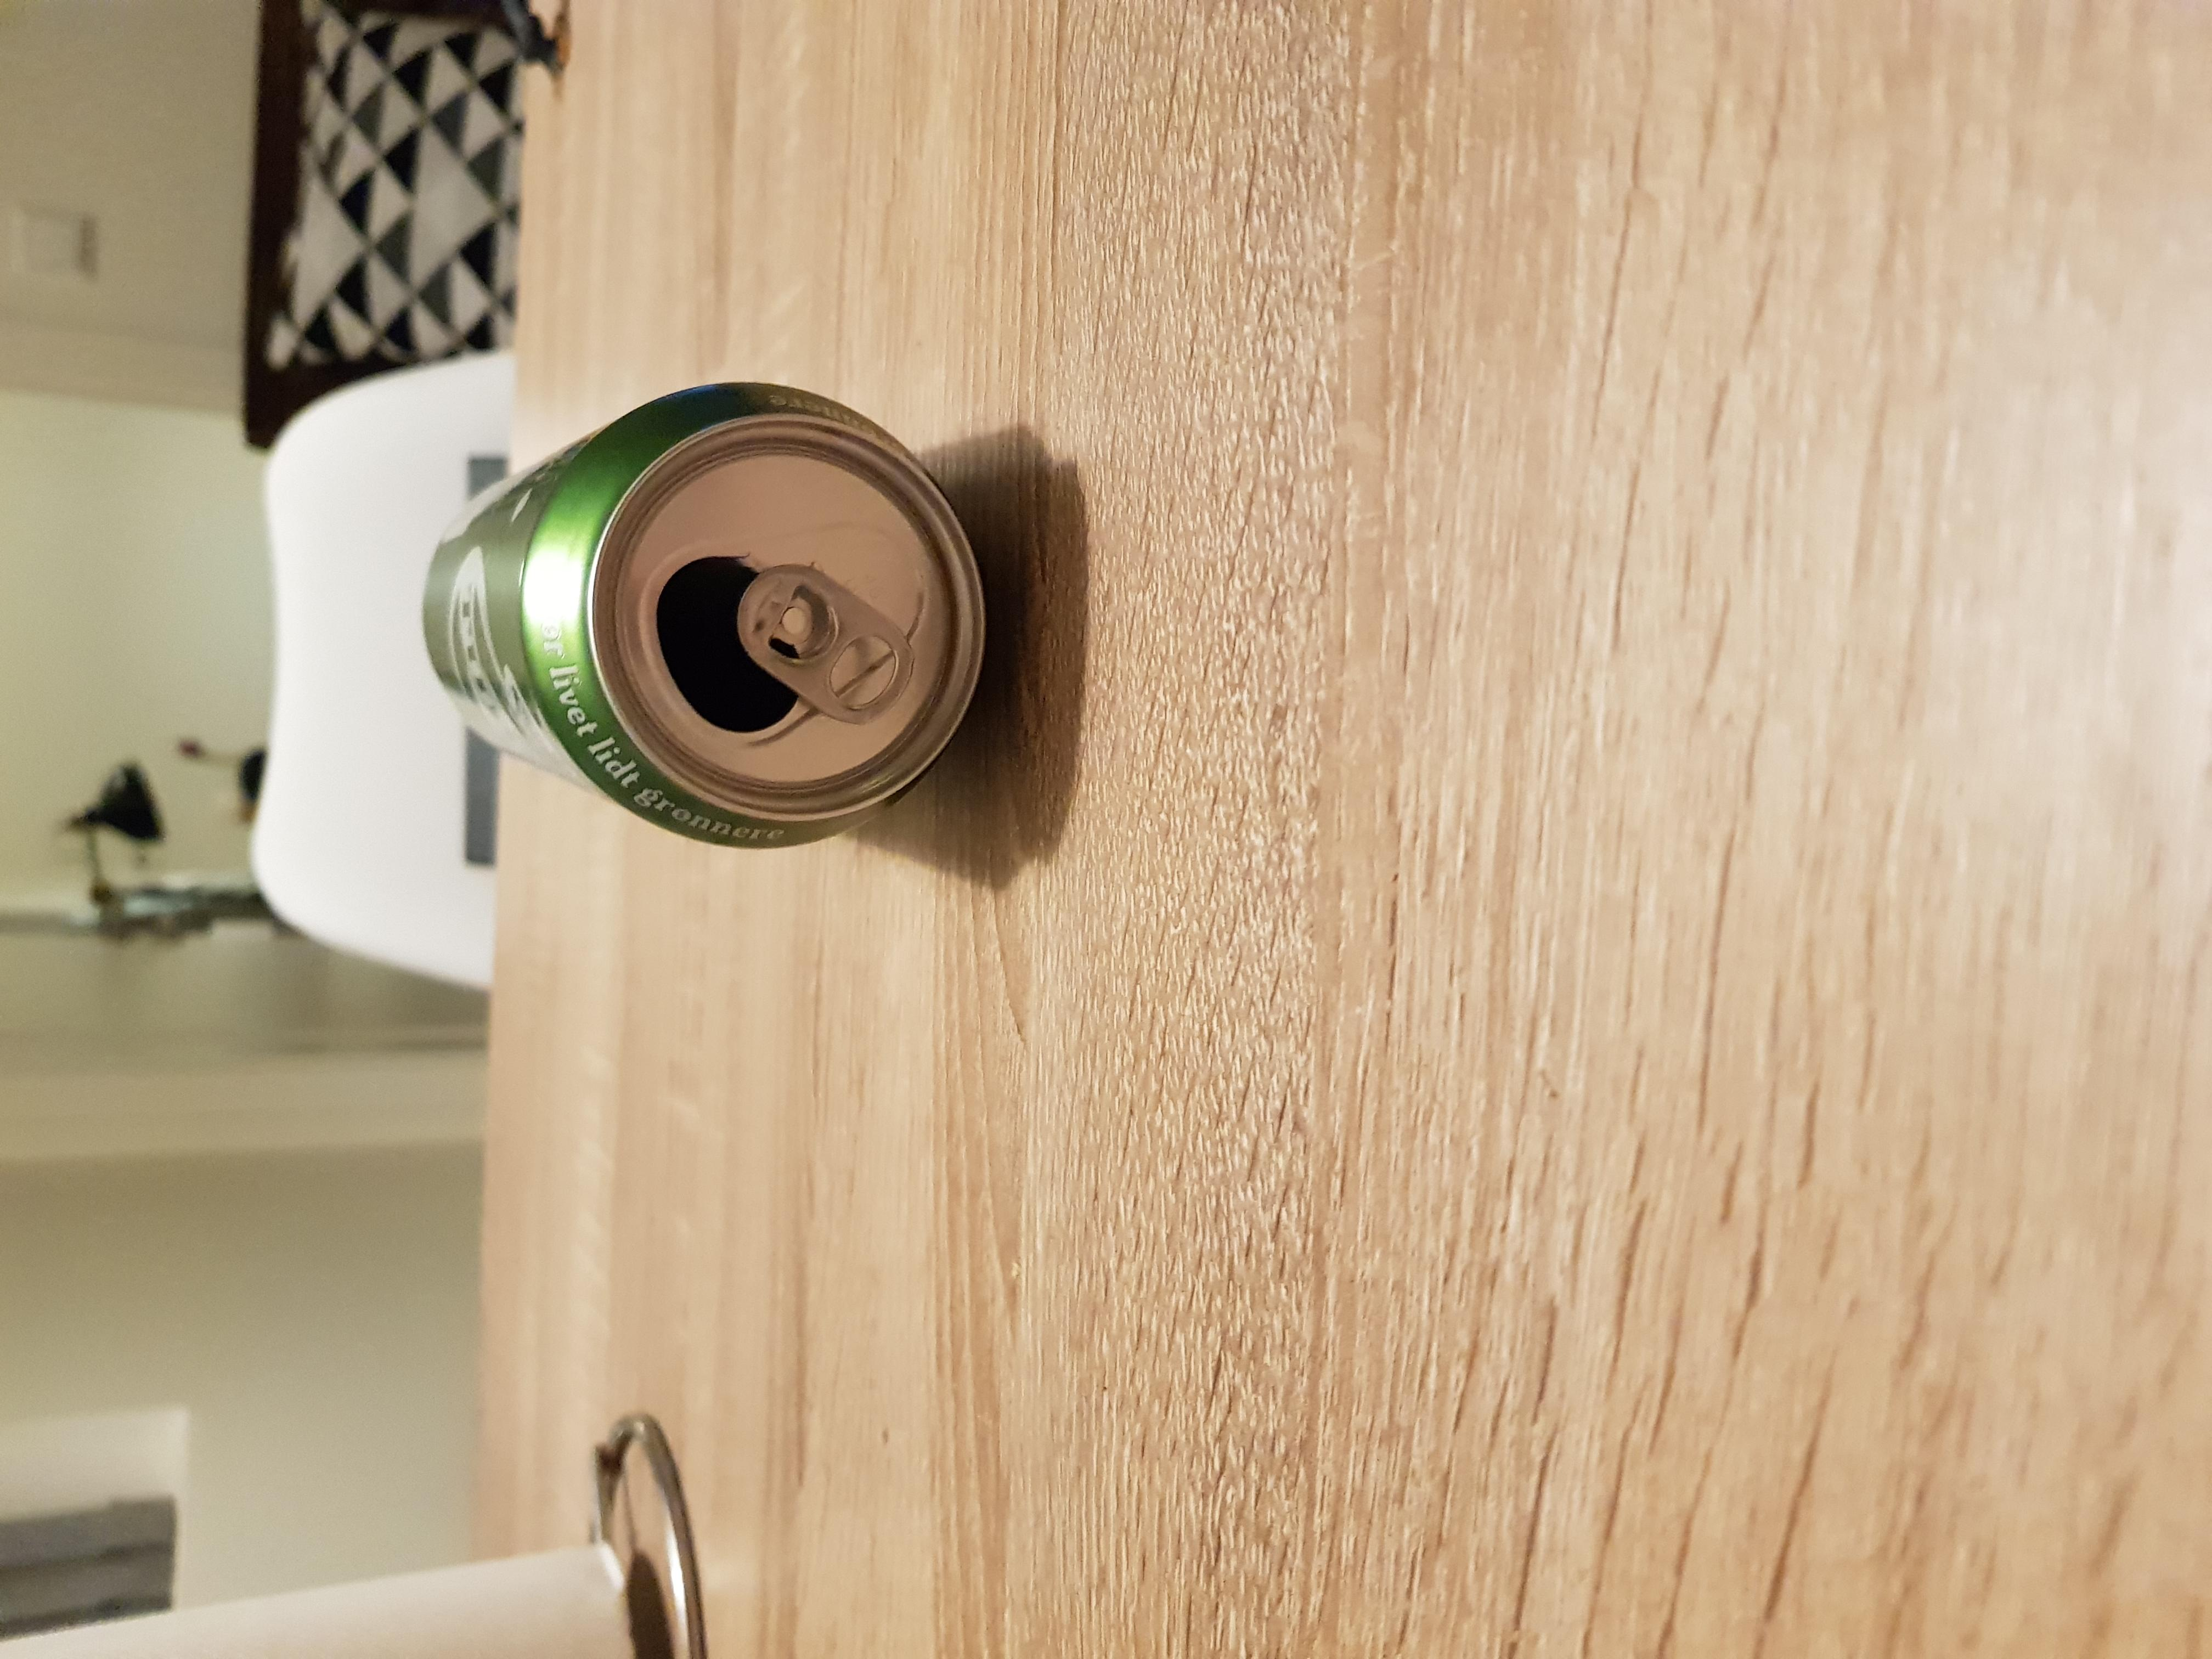can: (420, 385, 982, 861)
